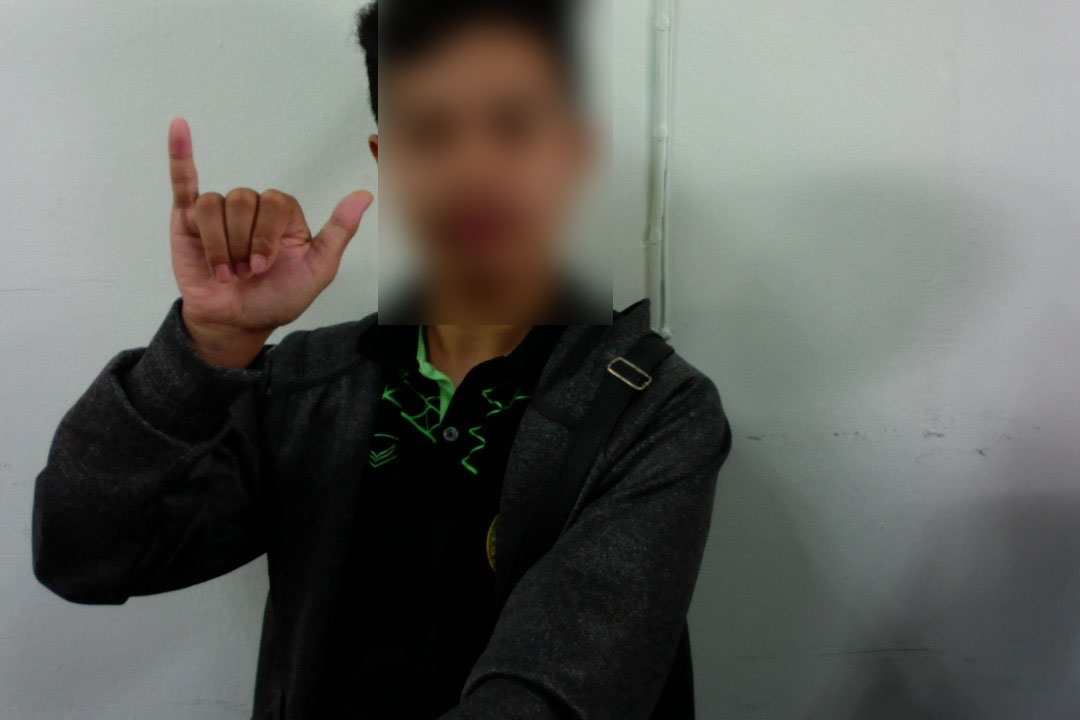yor: (155, 108, 378, 357)
